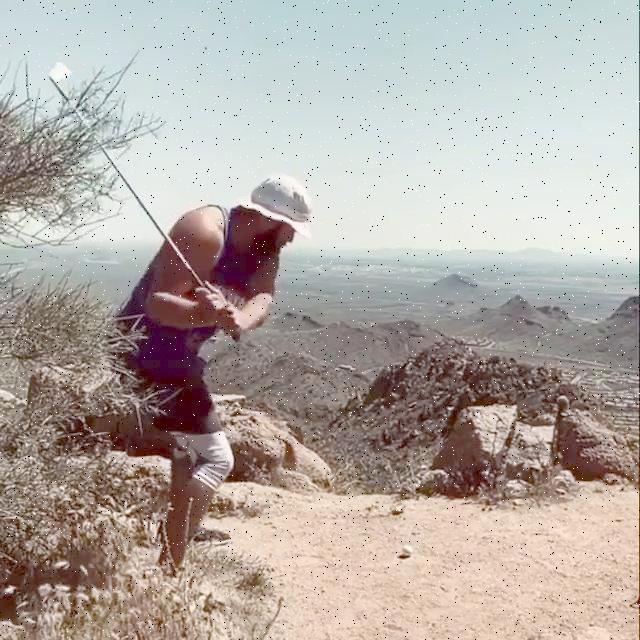golf ball: (404, 547, 413, 555)
golf club-handle: (48, 62, 242, 345)
golf club-head: (48, 62, 71, 84)
